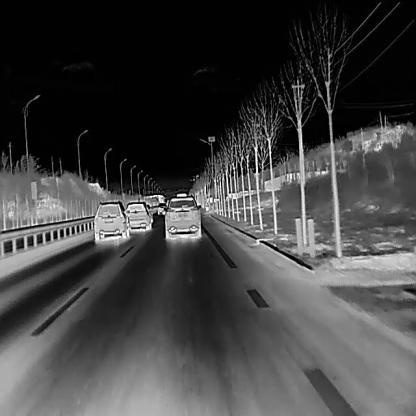car: (162, 193, 201, 240), (92, 200, 129, 240), (123, 201, 151, 231), (156, 203, 166, 215)
